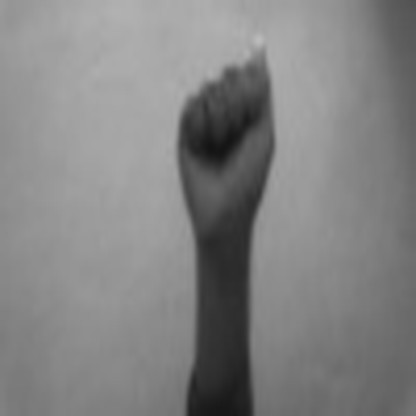a: (171, 37, 281, 229)
